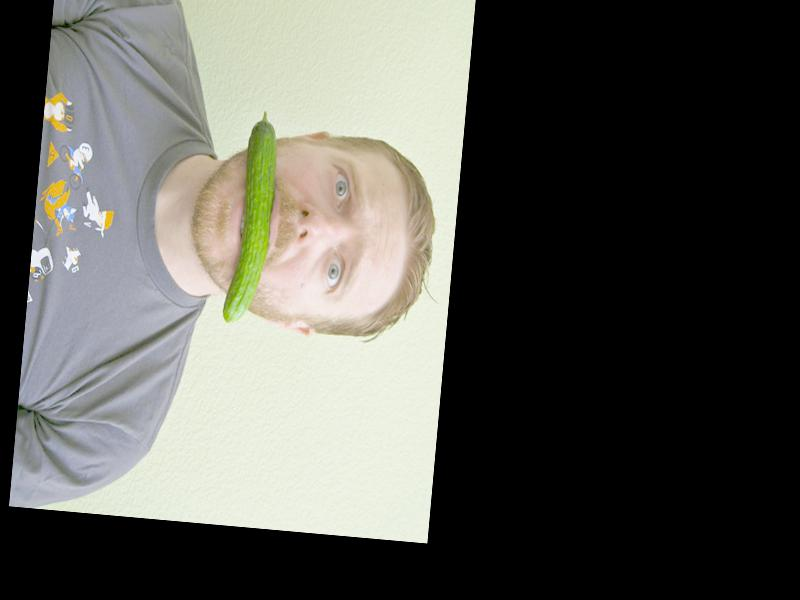Cucumber: (221, 108, 280, 327)
